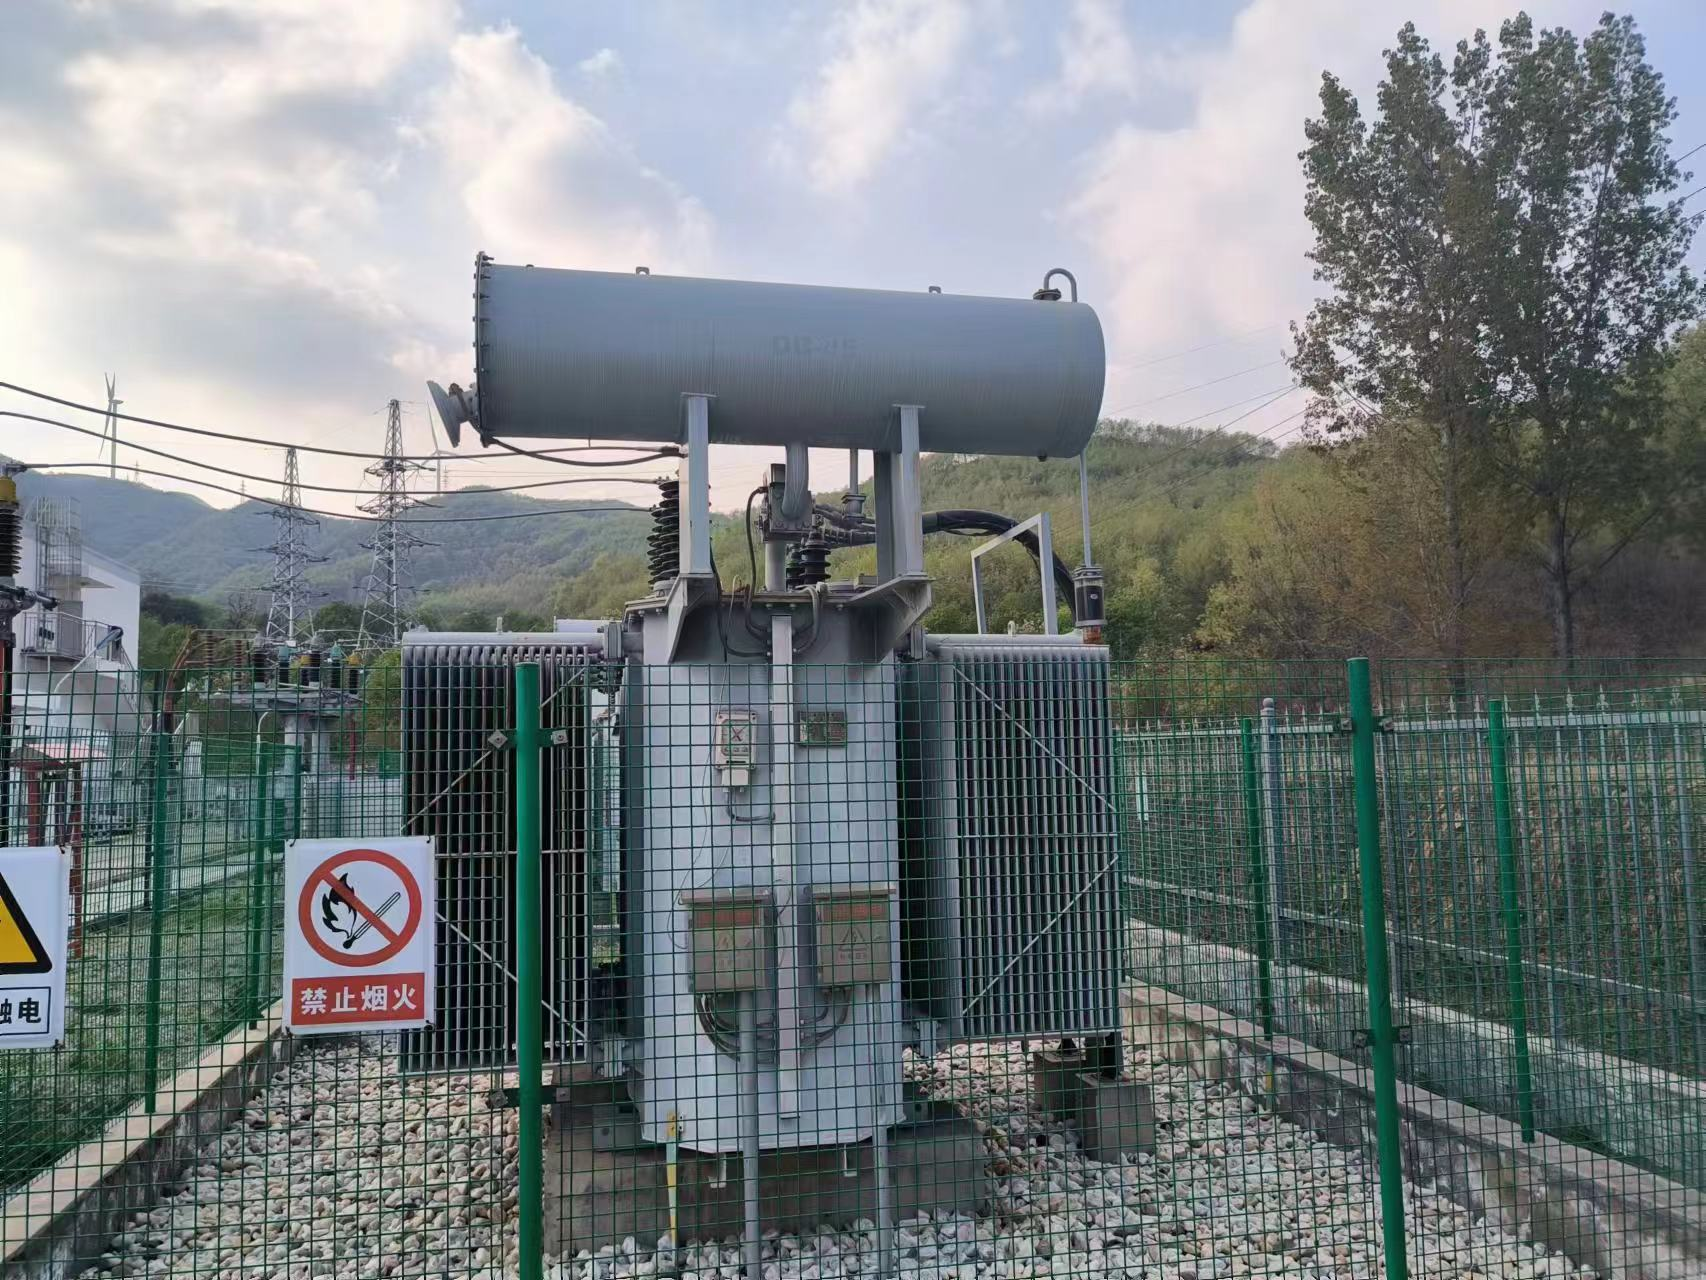Conservator: (460, 250, 1112, 582)
